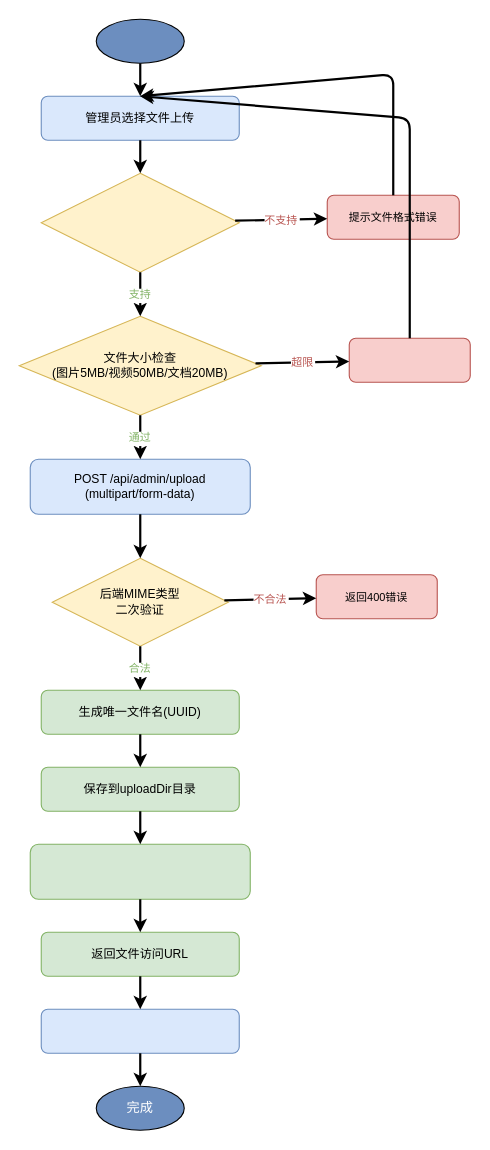
This 490x1150 diagram has some shape labels left out. The box of each missing label's shape, as (x1, y1, x2, y2) in pixels:
RabbitMQ异步处理 (生成缩略图/压缩): (29, 843, 250, 899)
前端更新表单字段: (40, 1008, 239, 1053)
开始: (95, 18, 184, 63)
提示文件过大: (348, 337, 470, 382)
文件类型检查 (jpg/png/mp4/pdf/doc): (40, 172, 239, 272)
